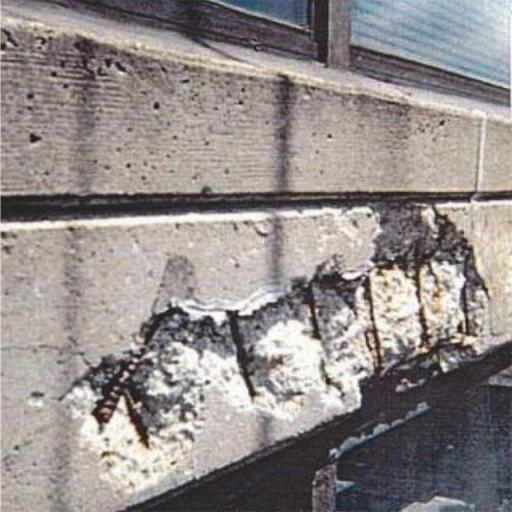spalling: (67, 206, 495, 500)
